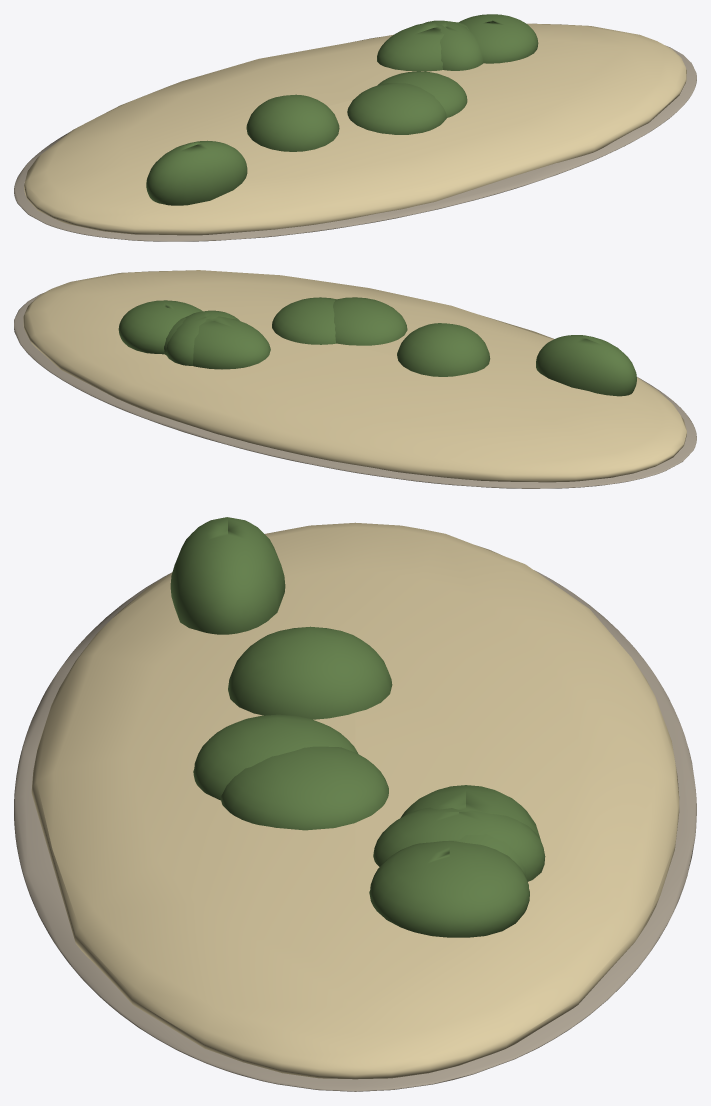
Rendered from g12-islet-sandy-scrub.glb.
3 views of the same model, one above another, from view 1: azimuth 30°, elevation 25°; view 2: azimuth 150°, elevation 25°; view 3: azimuth 270°, elevation 25° (orthographic). The views are drawn at different scales.
Parts seen in each view (by area): view 1: part0, part1, part2, part8, part6, part3, part7, part5, part4; view 2: part0, part1, part2, part8, part7, part6, part3, part4, part5; view 3: part0, part1, part3, part8, part4, part2, part6, part5, part7.
Boxes of the visible parts, x1,y1,x2,y2 form: part0: (24,23,686,235); part1: (14,46,696,241); part2: (146,140,247,205); part8: (246,94,339,151); part6: (347,83,446,134); part3: (459,14,538,63); part7: (377,22,468,71); part5: (423,20,483,70); part4: (377,71,467,117); part0: (23,270,686,482); part1: (14,292,696,488); part2: (536,335,636,396); part8: (397,323,490,376); part7: (164,316,270,369); part6: (333,297,407,345); part3: (118,300,202,354); part4: (272,297,336,344); part5: (166,310,239,365); part0: (31,522,679,1079); part1: (14,570,696,1091); part3: (369,841,529,937); part8: (228,626,392,719); part4: (220,746,388,830); part2: (170,517,285,634); part6: (193,714,358,800); part5: (373,807,545,881); part7: (400,785,540,877).
Bounding box in the file's own units: 30800 × 4069 × 15797.
